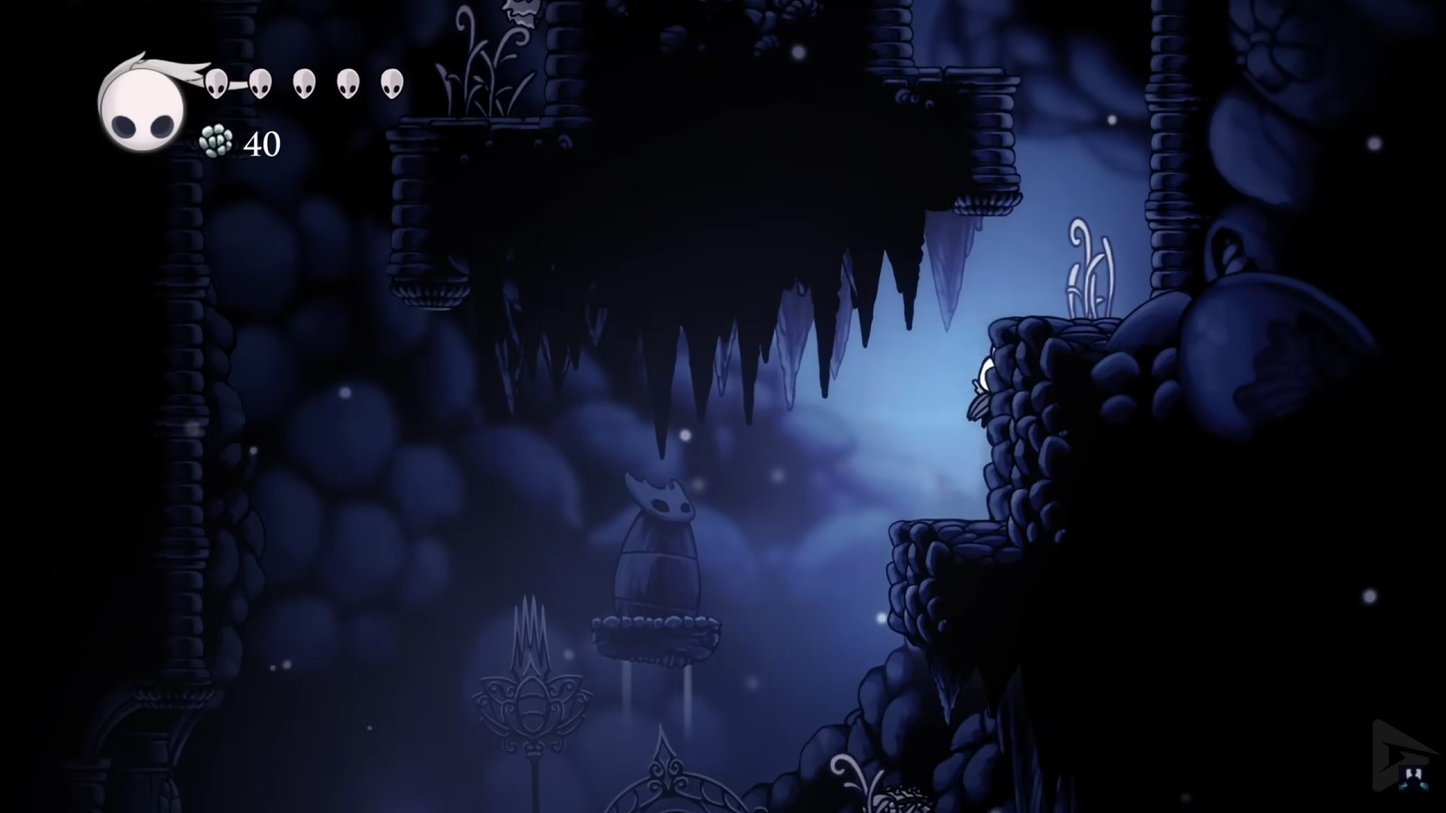HK: (960, 346, 1015, 439)
